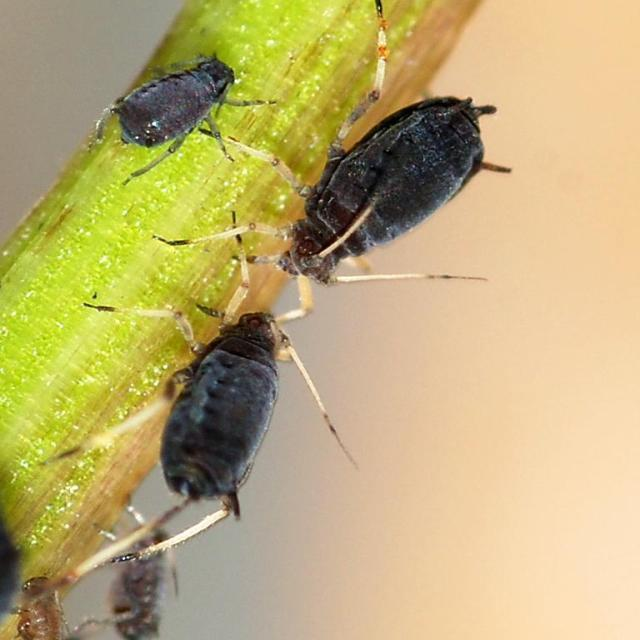aphid: (244, 48, 534, 318), (60, 274, 314, 566), (86, 49, 258, 184)
